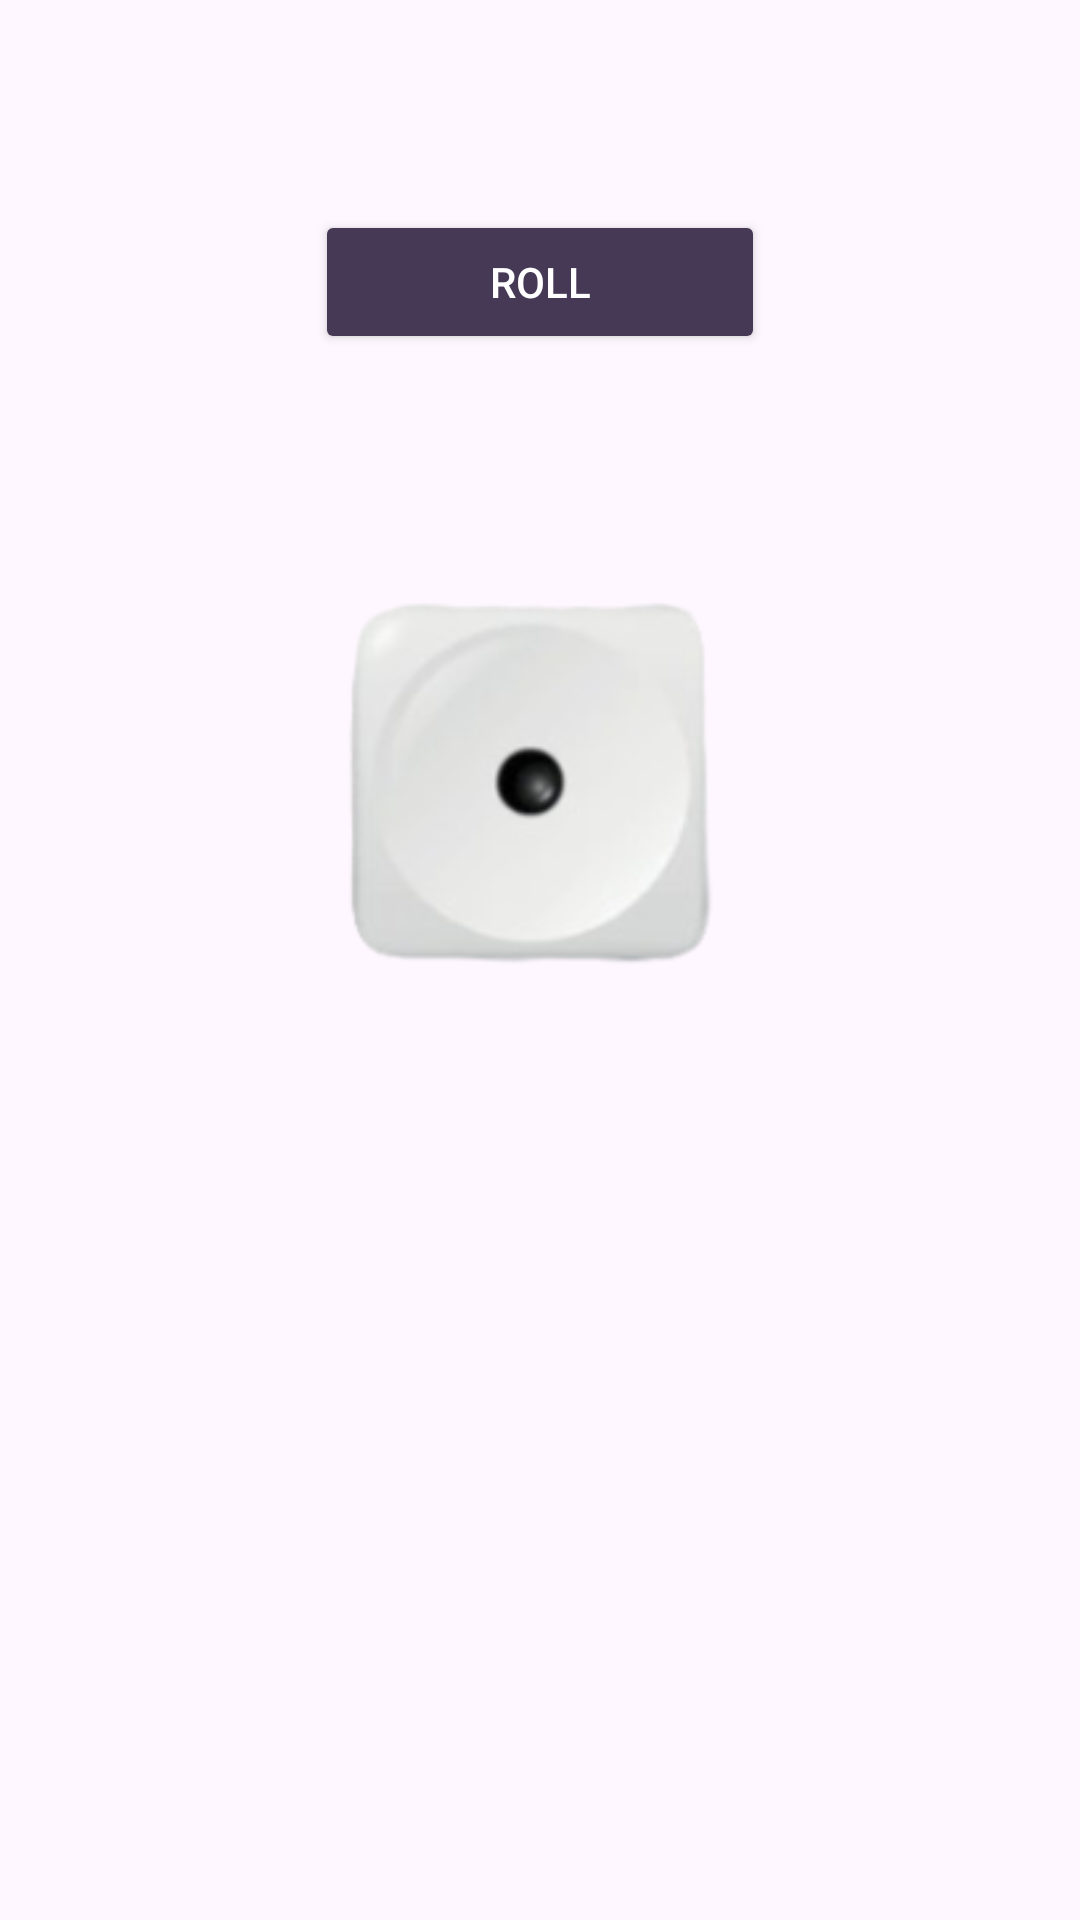

Where to tap for icons on this 1080*1920 app screen, as (x=x, y=y):
dice: (x=530, y=783)
